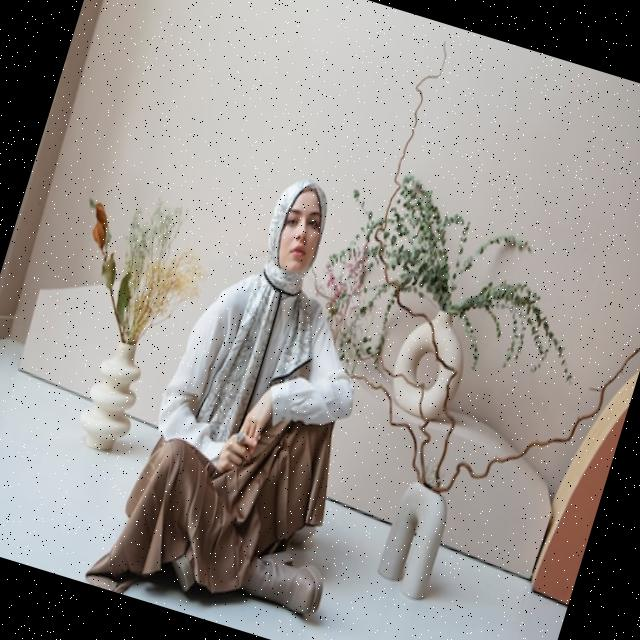Person: (84, 146, 438, 640)
